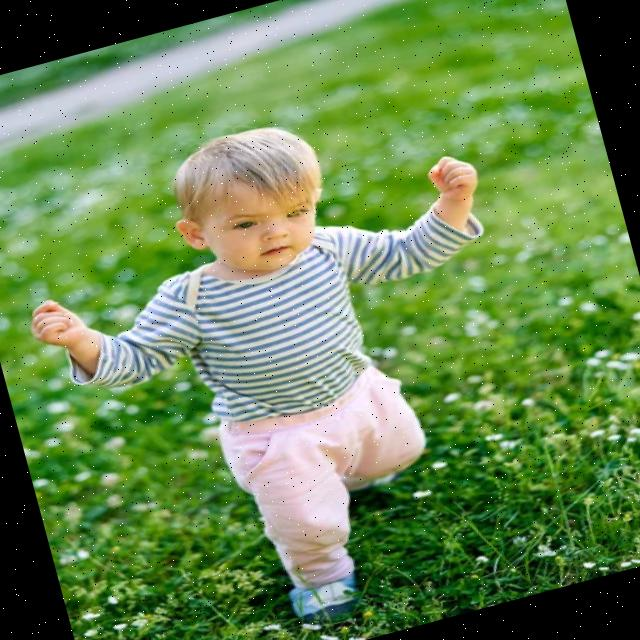Person: (0, 76, 576, 640)
